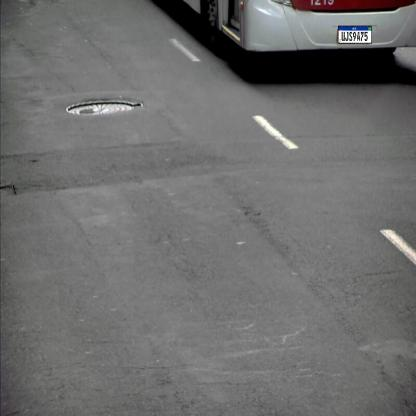PlacaM: (338, 26, 372, 43)
